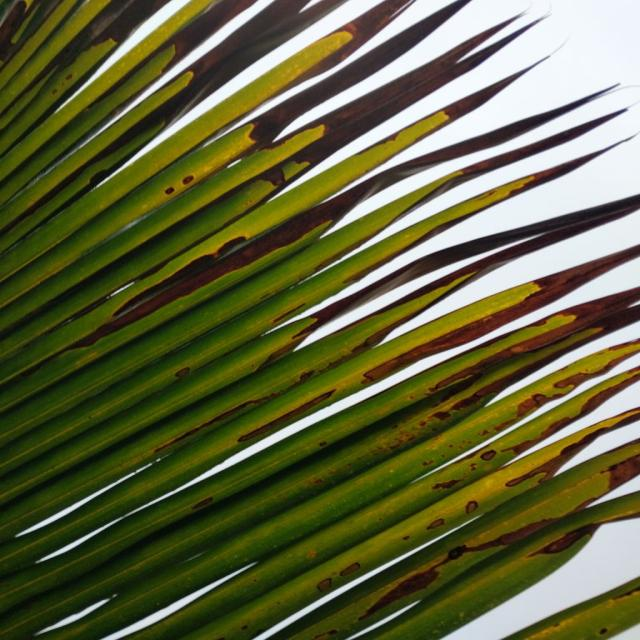gray leaf spot: (10, 0, 638, 640)
